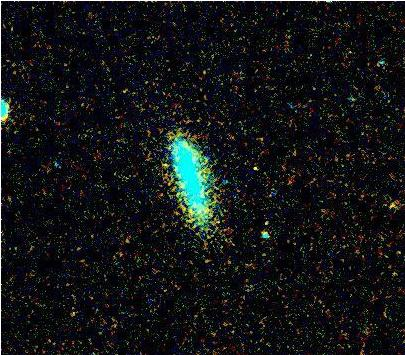star: (241, 153, 271, 183)
